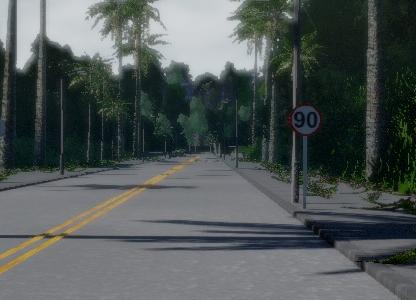Speed_90: (288, 101, 323, 140)
